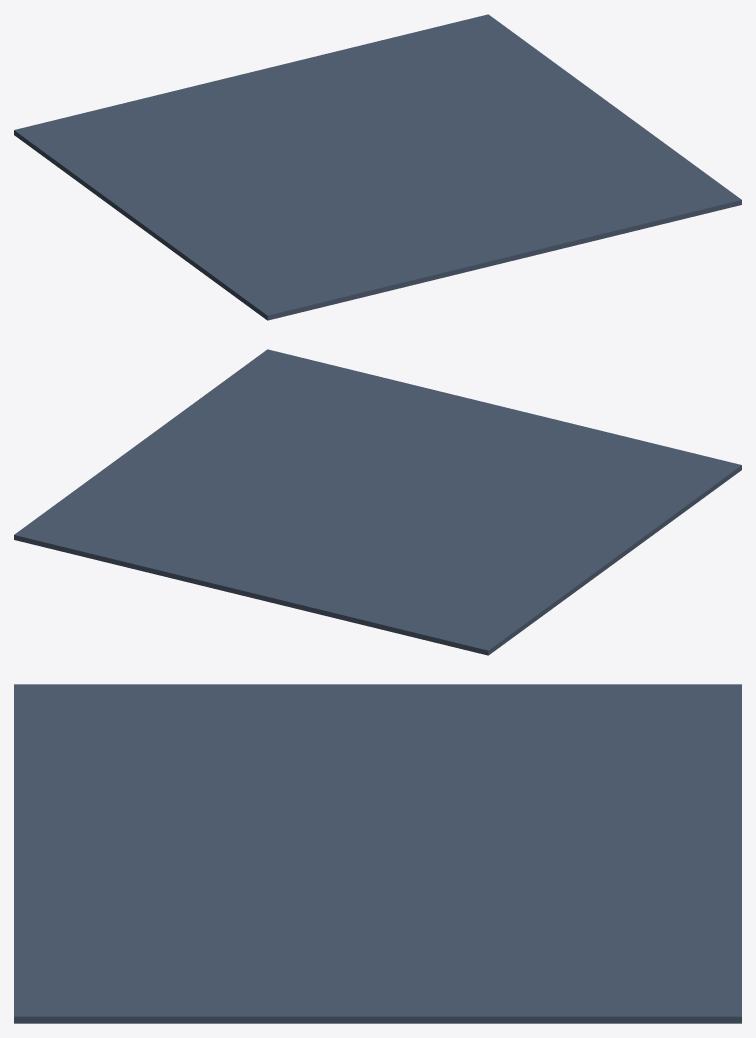
The model's file is floor_004_l_old_core_floor_05.obj.
The picture shows the model from 3 angles, top to bottom: view 1: azimuth 30°, elevation 25°; view 2: azimuth 150°, elevation 25°; view 3: azimuth 270°, elevation 25°; orthographic projection. The views are drawn at different scales.
Parts seen in each view (by area): view 1: Floor_004_l_old_core_floor_05; view 2: Floor_004_l_old_core_floor_05; view 3: Floor_004_l_old_core_floor_05.
Boxes of the visible parts, x1,y1,x2,y2 form: Floor_004_l_old_core_floor_05: (14,14,741,320); Floor_004_l_old_core_floor_05: (14,349,741,655); Floor_004_l_old_core_floor_05: (14,684,741,1023).
Bounding box in the file's own units: 19.85 × 0.2 × 18.37.
